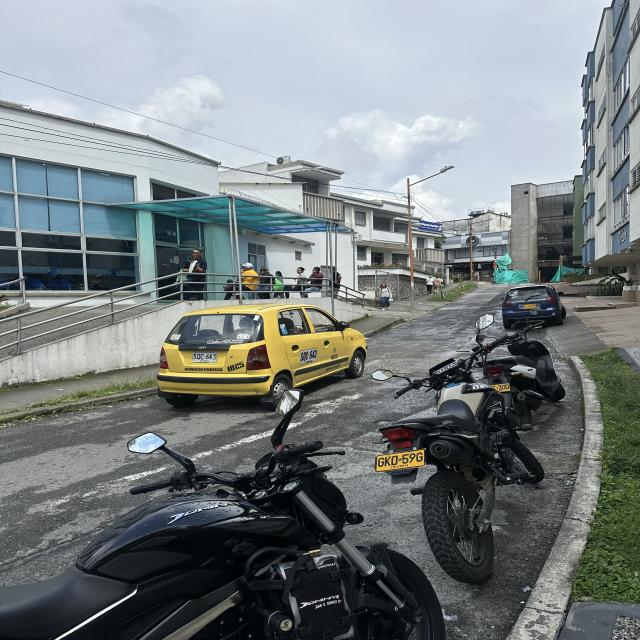number plate: (375, 449, 425, 472), (192, 352, 217, 363), (523, 304, 536, 309)
